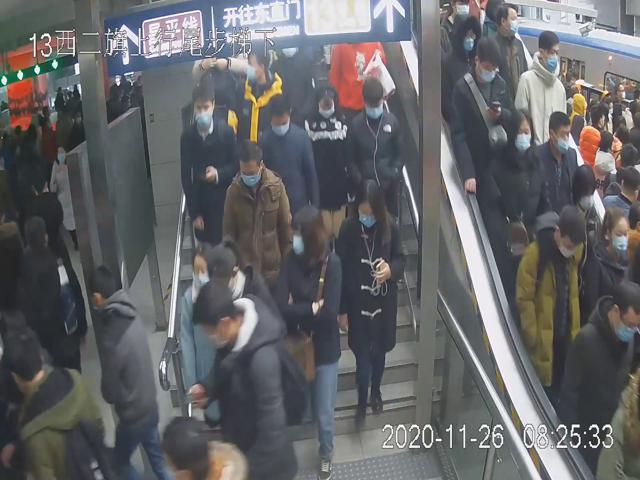person: (269, 202, 345, 479), (333, 178, 406, 433), (513, 197, 586, 393), (222, 138, 295, 292), (178, 79, 240, 253), (451, 34, 516, 199), (253, 89, 317, 233), (481, 101, 538, 260), (345, 67, 403, 192), (514, 28, 570, 145), (298, 75, 346, 198), (229, 47, 285, 141)
